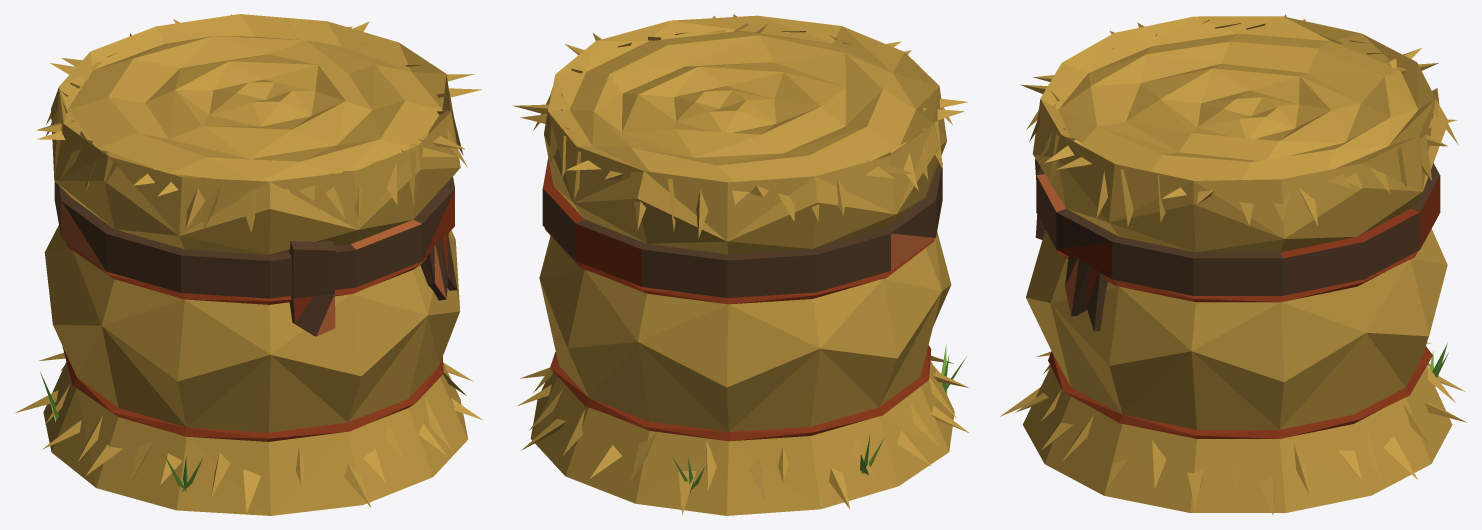
File: straw-bale-56facd.glb
3 views of the same model, side by side, from view 1: azimuth 30°, elevation 25°; view 2: azimuth 150°, elevation 25°; view 3: azimuth 270°, elevation 25° (orthographic).
Visible parts, largest first — view 1: straw-bale-body; view 2: straw-bale-body; view 3: straw-bale-body.
Boxes of the visible parts, bbox=[...] form: straw-bale-body: bbox=[15, 14, 482, 515]; straw-bale-body: bbox=[513, 14, 969, 515]; straw-bale-body: bbox=[1000, 14, 1466, 515].
Size of the model in its own units: 1.3 by 1 by 1.3.
